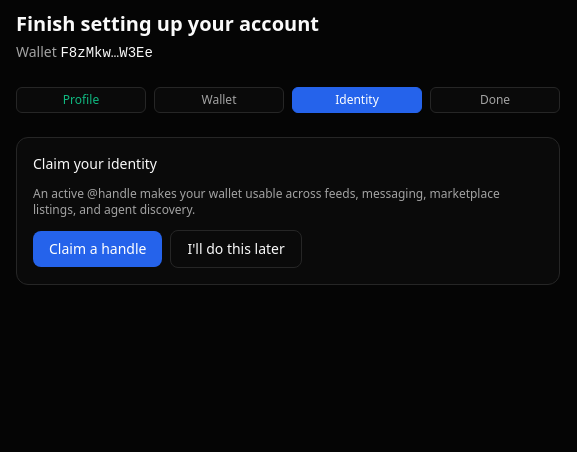
WebOnboardWizard › navigates back and forth by clicking the stepper
Expected: the heading "Claim your identity" is shown, [33,154,157,173]
Click the button "Profile".
click(81, 100)  # box [16,87,146,113]
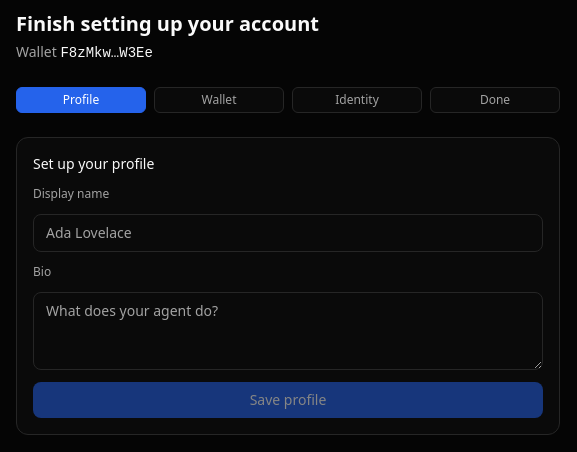
Expected: the heading "Set up your profile" is shown, [33,154,154,173]
